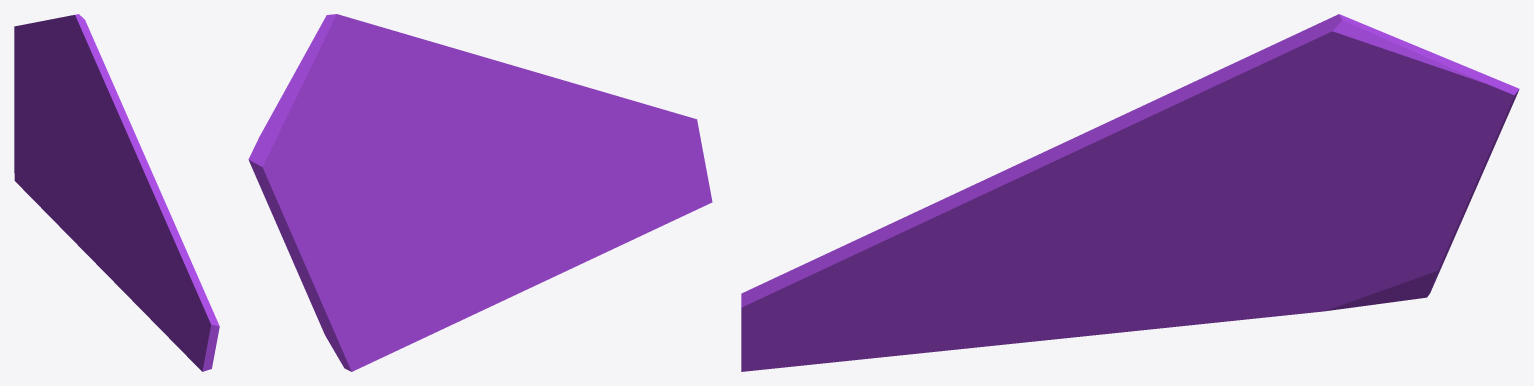
File: Window_3_17_chunks.fbx
The picture shows the model from 3 angles, left to right: view 1: azimuth 30°, elevation 25°; view 2: azimuth 150°, elevation 25°; view 3: azimuth 270°, elevation 25°; orthographic projection. The views are drawn at different scales.
Parts seen in each view (by area): view 1: Window_3_17_0, Window_3_17_2, Window_3_17_3, Window_3_17_4, Window_3_17_8, Window_3_17_6, Window_3_17_1, Window_3_17_9, Window_3_17_10, Window_3_17_12, Window_3_17_14, Window_3_17_11 (+2 smaller); view 2: Window_3_17_0, Window_3_17_2, Window_3_17_3, Window_3_17_8, Window_3_17_6, Window_3_17_4, Window_3_17_1, Window_3_17_9, Window_3_17_10, Window_3_17_12, Window_3_17_14, Window_3_17_11 (+2 smaller); view 3: Window_3_17_0, Window_3_17_2, Window_3_17_3, Window_3_17_4, Window_3_17_6, Window_3_17_8, Window_3_17_14, Window_3_17_11, Window_3_17_5, Window_3_17_12, Window_3_17_7, Window_3_17_13 (+2 smaller).
Part boxes in pixels (x1=…): Window_3_17_0: x1=14, y1=14, x2=100, y2=185; Window_3_17_2: x1=86, y1=56, x2=150, y2=229; Window_3_17_3: x1=124, y1=218, x2=219, y2=371; Window_3_17_4: x1=143, y1=170, x2=206, y2=299; Window_3_17_8: x1=28, y1=152, x2=97, y2=211; Window_3_17_6: x1=19, y1=180, x2=83, y2=250; Window_3_17_1: x1=75, y1=45, x2=97, y2=158; Window_3_17_9: x1=81, y1=210, x2=111, y2=268; Window_3_17_10: x1=109, y1=208, x2=161, y2=298; Window_3_17_12: x1=138, y1=274, x2=198, y2=367; Window_3_17_14: x1=101, y1=246, x2=132, y2=288; Window_3_17_11: x1=83, y1=190, x2=112, y2=231; Window_3_17_0: x1=248, y1=14, x2=416, y2=371; Window_3_17_2: x1=397, y1=31, x2=544, y2=187; Window_3_17_3: x1=527, y1=111, x2=712, y2=204; Window_3_17_8: x1=370, y1=179, x2=464, y2=339; Window_3_17_6: x1=361, y1=263, x2=483, y2=367; Window_3_17_4: x1=521, y1=68, x2=667, y2=131; Window_3_17_1: x1=371, y1=24, x2=435, y2=196; Window_3_17_9: x1=459, y1=226, x2=518, y2=309; Window_3_17_10: x1=499, y1=185, x2=616, y2=238; Window_3_17_12: x1=570, y1=196, x2=706, y2=231; Window_3_17_14: x1=519, y1=221, x2=559, y2=292; Window_3_17_11: x1=460, y1=183, x2=508, y2=255; Window_3_17_0: x1=1242, y1=14, x2=1519, y2=300; Window_3_17_2: x1=1034, y1=59, x2=1261, y2=250; Window_3_17_3: x1=741, y1=231, x2=1067, y2=371; Window_3_17_4: x1=789, y1=157, x2=1042, y2=280; Window_3_17_6: x1=1169, y1=274, x2=1402, y2=327; Window_3_17_8: x1=1204, y1=202, x2=1364, y2=281; Window_3_17_14: x1=998, y1=286, x2=1128, y2=341; Window_3_17_11: x1=1090, y1=245, x2=1192, y2=303; Window_3_17_5: x1=1011, y1=182, x2=1109, y2=265; Window_3_17_12: x1=789, y1=297, x2=1003, y2=366; Window_3_17_7: x1=1125, y1=216, x2=1215, y2=285; Window_3_17_13: x1=853, y1=320, x2=1029, y2=360.
Bounding box in the file's own units: 150 × 615 × 1118.
